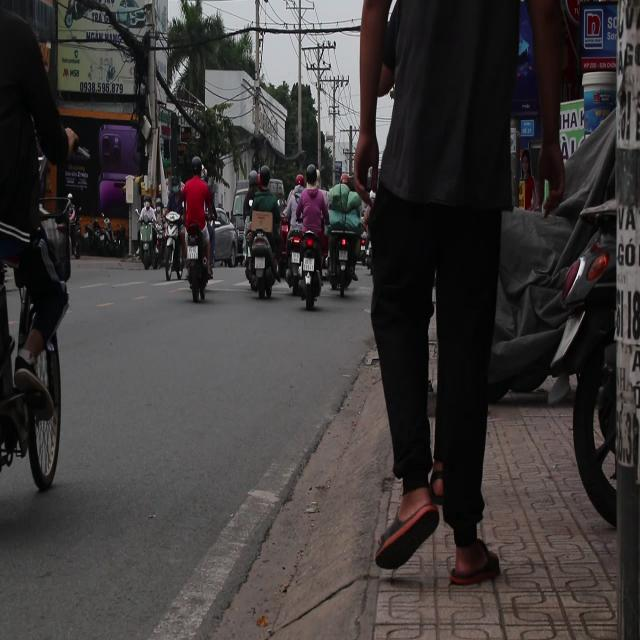motorbike: (287, 223, 329, 308), (242, 224, 281, 297), (156, 212, 184, 281)
